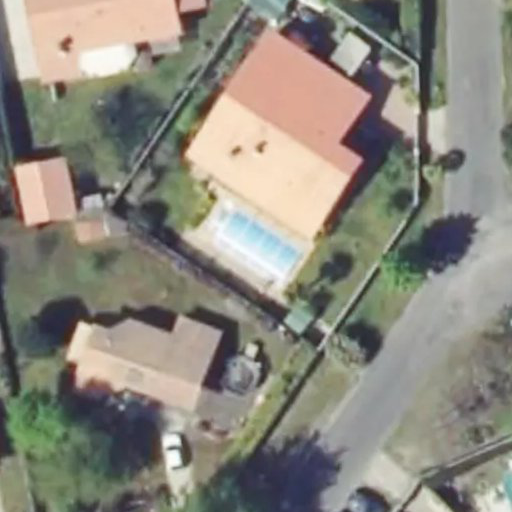pool: (209, 204, 300, 285)
